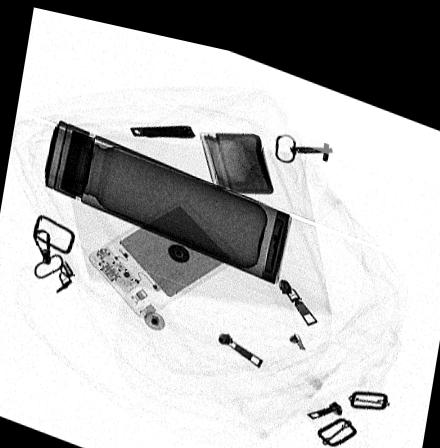Powerbank: (85, 189, 240, 312)
